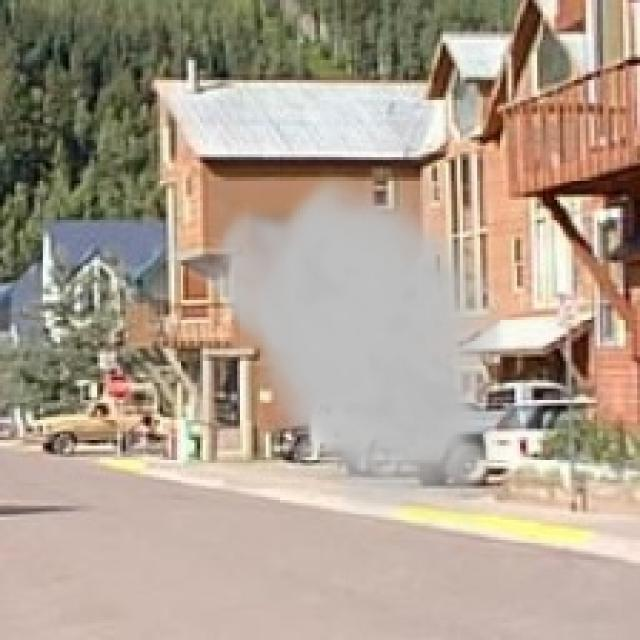smoke: (146, 163, 511, 537)
